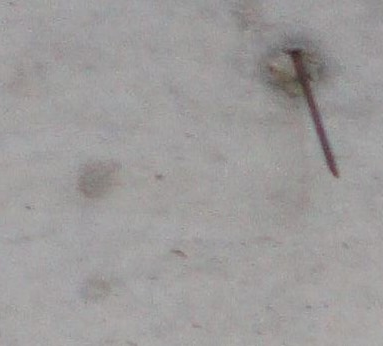Exposed reinforcement: (289, 50, 340, 180)
Spalling: (268, 52, 321, 93)
